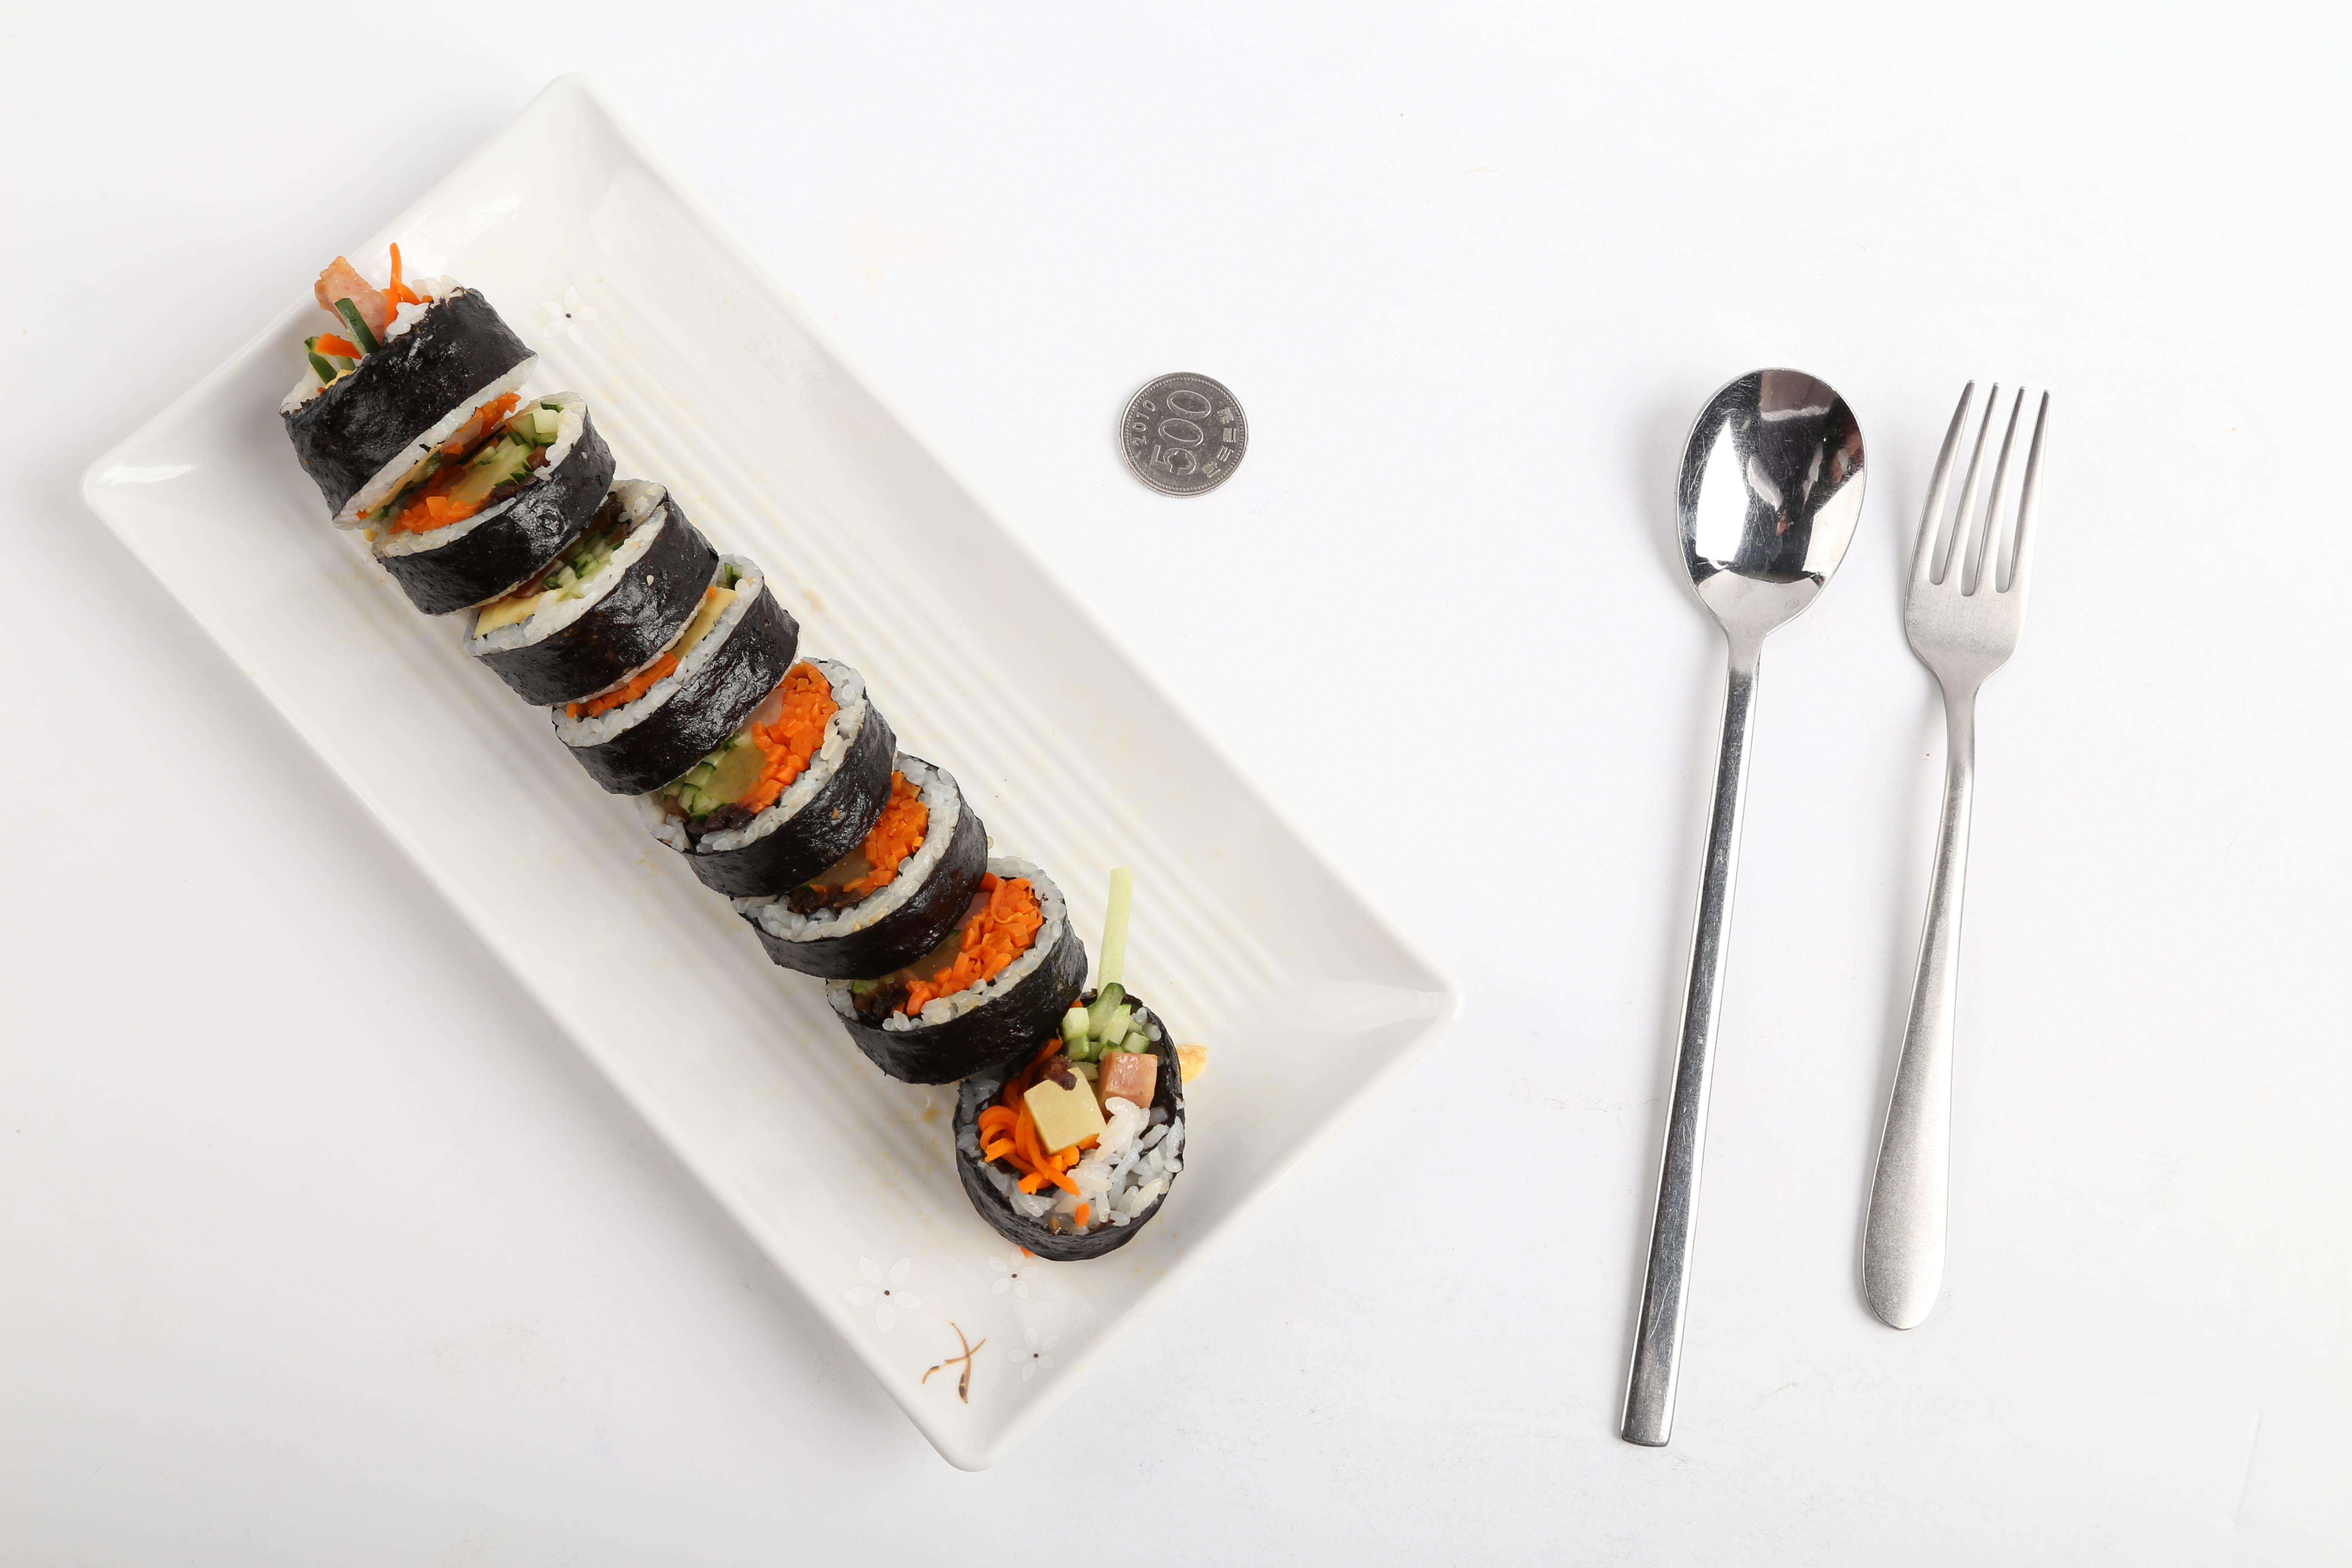dish: (79, 65, 1459, 1470)
ref_coin: (1113, 359, 1251, 506)
ref_fork: (1897, 380, 2054, 730)
ref_spoon: (1676, 360, 1869, 698)
김밥: (282, 245, 1192, 1267)
